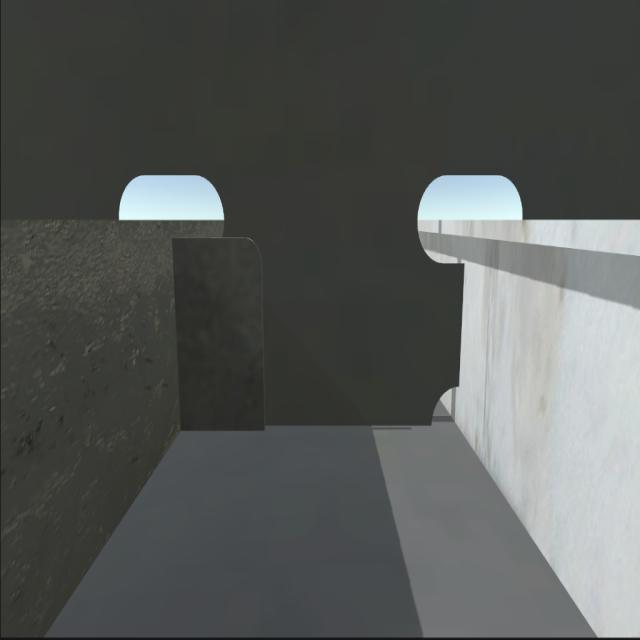fillet_hole: (428, 380, 463, 429)
fillet_yong_jeop_jang: (180, 414, 434, 440)
longi_yong_jeop_jang: (168, 238, 187, 435), (447, 263, 473, 390)
plate_CP05: (173, 235, 265, 433)
